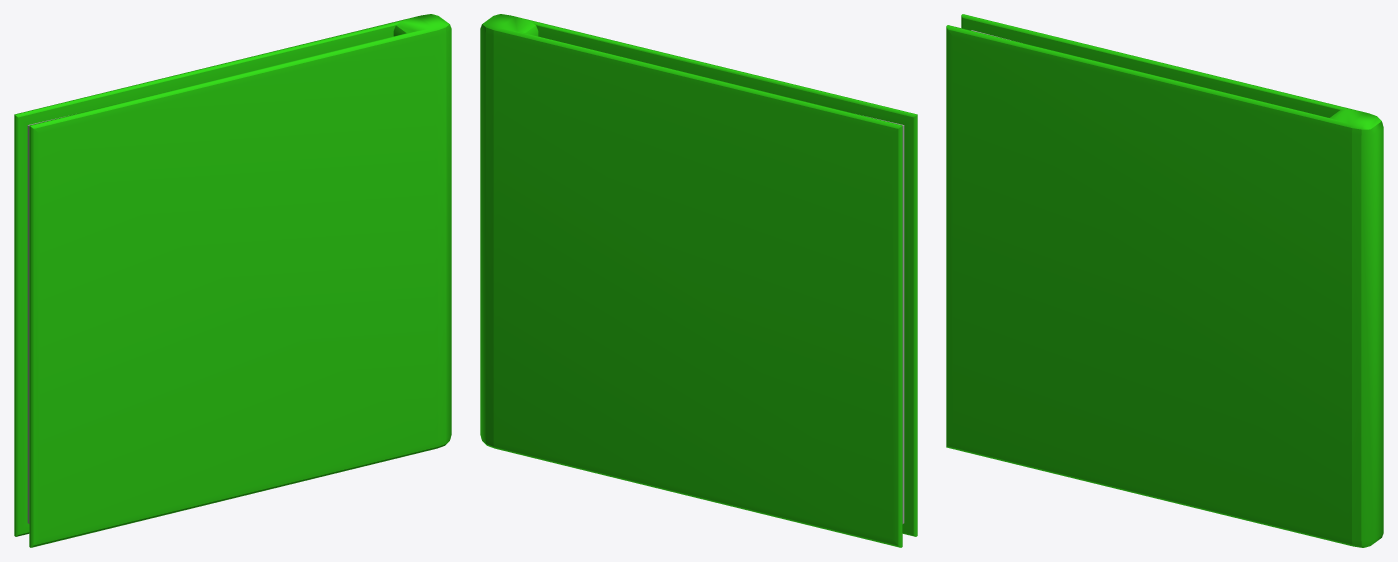
The model's file is book_5.glb.
The picture shows the model from 3 angles, left to right: view 1: azimuth 30°, elevation 25°; view 2: azimuth 150°, elevation 25°; view 3: azimuth 330°, elevation 25°; orthographic projection.
Parts seen in each view (by area): view 1: Cube.026; view 2: Cube.026; view 3: Cube.026.
Boxes of the visible parts, x1,y1,x2,y2 form: Cube.026: (14, 14, 451, 547); Cube.026: (480, 14, 917, 547); Cube.026: (946, 14, 1383, 547).
Size of the model in its own units: 0.2012 by 0.1911 by 0.0152.
1 material, 1 textured.
